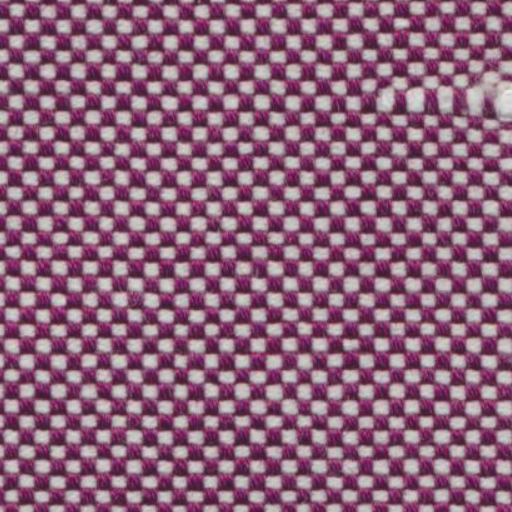DaiSha: (376, 58, 508, 126)
